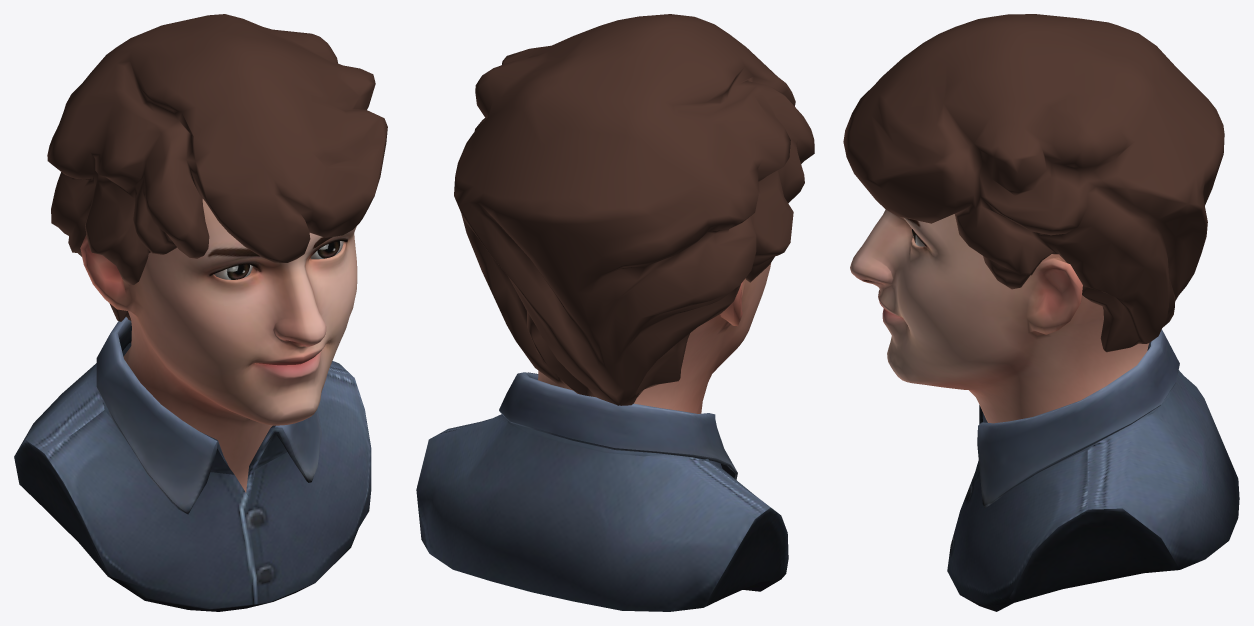
Rendered from avatar2.glb.
3 views of the same model, side by side, from view 1: azimuth 30°, elevation 25°; view 2: azimuth 150°, elevation 25°; view 3: azimuth 270°, elevation 25° (orthographic). The views are drawn at different scales.
Visible parts, largest first — view 1: Wolf3D_Hair, Wolf3D_Shirt, Wolf3D_Head; view 2: Wolf3D_Hair, Wolf3D_Shirt, Wolf3D_Head; view 3: Wolf3D_Hair, Wolf3D_Shirt, Wolf3D_Head.
Part boxes in pixels (left/top/right/bottom): Wolf3D_Hair: left=47, top=14, right=387, bottom=321; Wolf3D_Shirt: left=14, top=317, right=371, bottom=611; Wolf3D_Head: left=80, top=199, right=357, bottom=492; Wolf3D_Hair: left=454, top=14, right=814, bottom=405; Wolf3D_Shirt: left=416, top=372, right=788, bottom=611; Wolf3D_Head: left=538, top=262, right=771, bottom=413; Wolf3D_Hair: left=843, top=14, right=1224, bottom=352; Wolf3D_Shirt: left=947, top=329, right=1239, bottom=611; Wolf3D_Head: left=850, top=209, right=1149, bottom=423.
Size of the model in its own units: 0.2312 by 0.3844 by 0.2487.
Materials: 5 (5 with a texture image).
